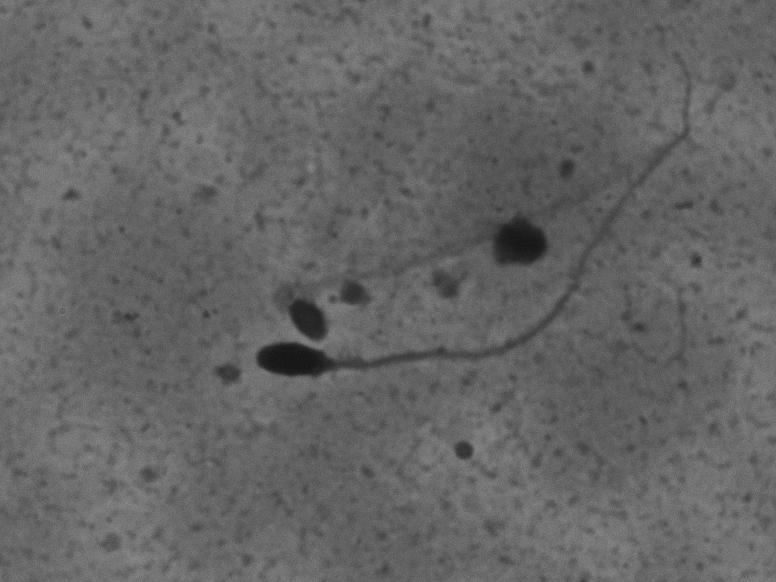Abnormal: (249, 38, 714, 388)
